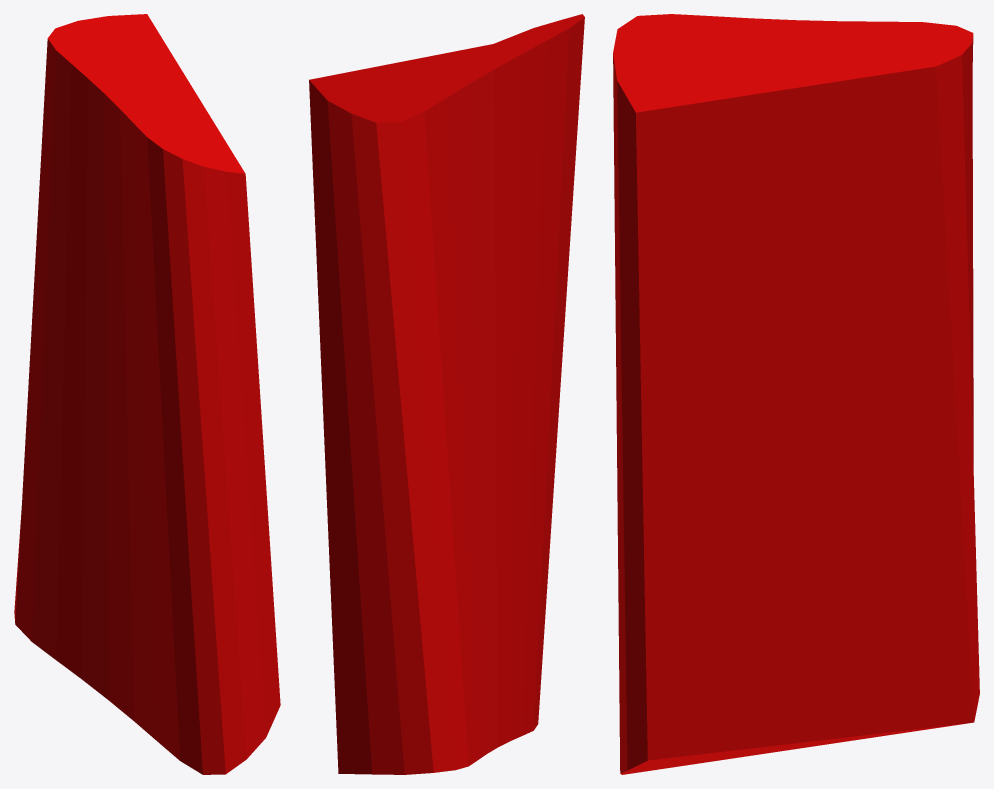
Rendered from red veg.fbx.
3 renders of one model, left to right at view 1: azimuth 30°, elevation 25°; view 2: azimuth 150°, elevation 25°; view 3: azimuth 270°, elevation 25°, orthographic. The views are drawn at different scales.
Parts seen in each view (by area): view 1: Cylinder.003; view 2: Cylinder.003; view 3: Cylinder.003.
Boxes of the visible parts, left/top/right/bottom form: Cylinder.003: left=14, top=14, right=280, bottom=774; Cylinder.003: left=309, top=14, right=584, bottom=774; Cylinder.003: left=613, top=14, right=979, bottom=774.
Bounding box in the file's own units: 80.67 × 360 × 161.
